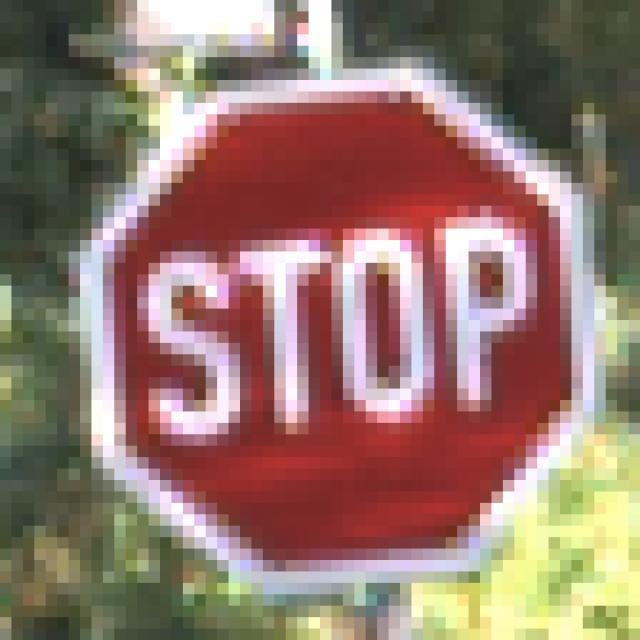STOP: (69, 69, 584, 584)
